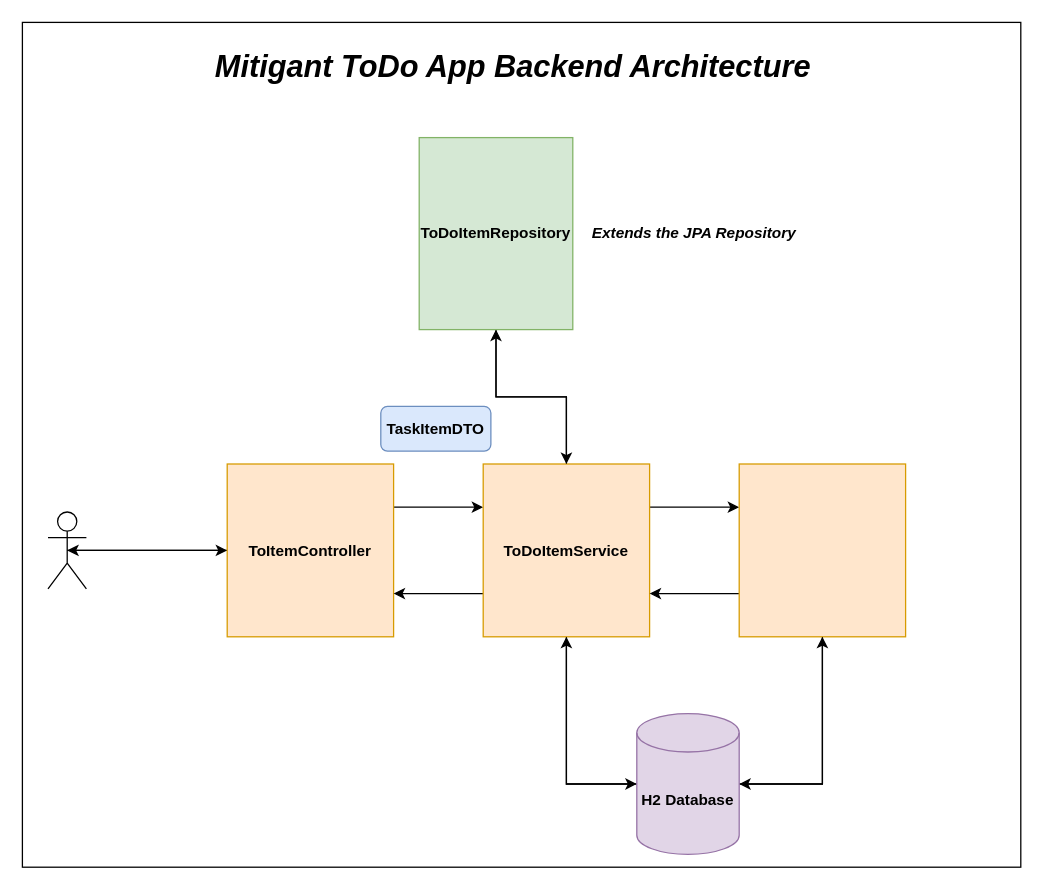
This 1043x890 diagram has some shape labels left out. Each missing label, with the box of its shape:
Client: (47, 511, 86, 589)
ToDoItems (Model): (738, 463, 906, 637)
